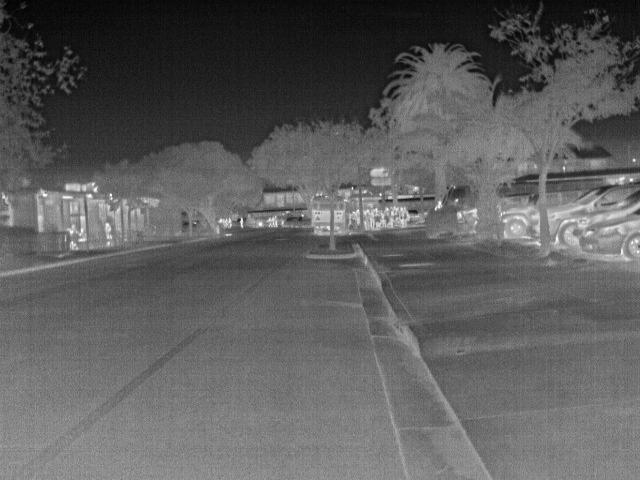car: (544, 178, 639, 250), (582, 207, 636, 262), (499, 203, 538, 238), (452, 206, 479, 234), (406, 207, 420, 223)
person: (66, 223, 78, 250), (101, 220, 113, 239), (76, 227, 88, 243)
